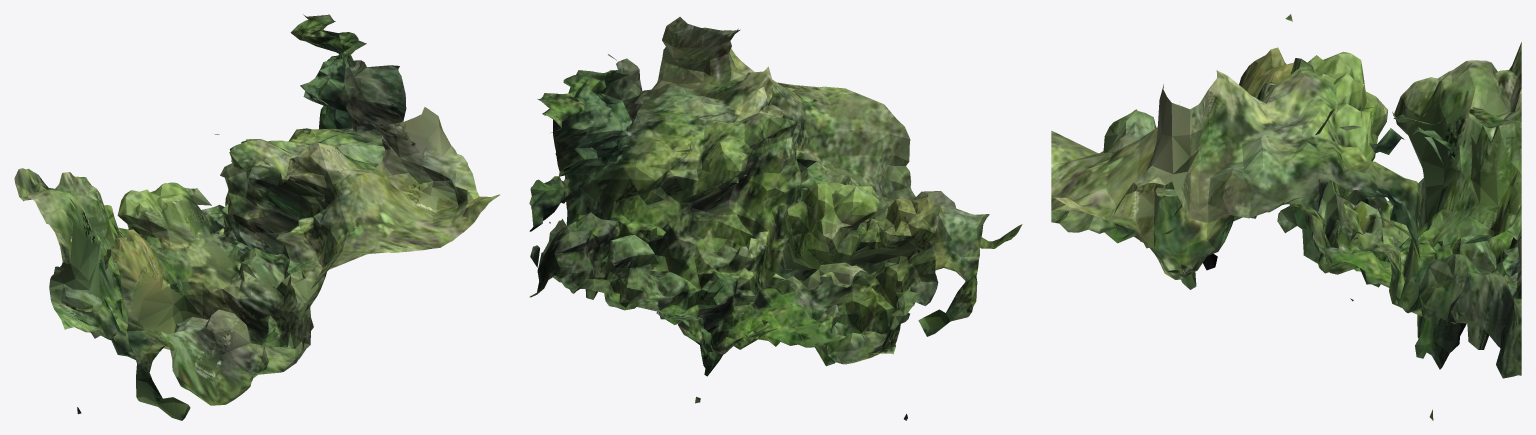
The picture shows the model from 3 angles, left to right: view 1: azimuth 30°, elevation 25°; view 2: azimuth 150°, elevation 25°; view 3: azimuth 270°, elevation 25°; orthographic projection. The views are drawn at different scales.
Bounding box in the file's own units: 26.11 × 23.3 × 26.11.
Materials: 6 (6 with a texture image).
